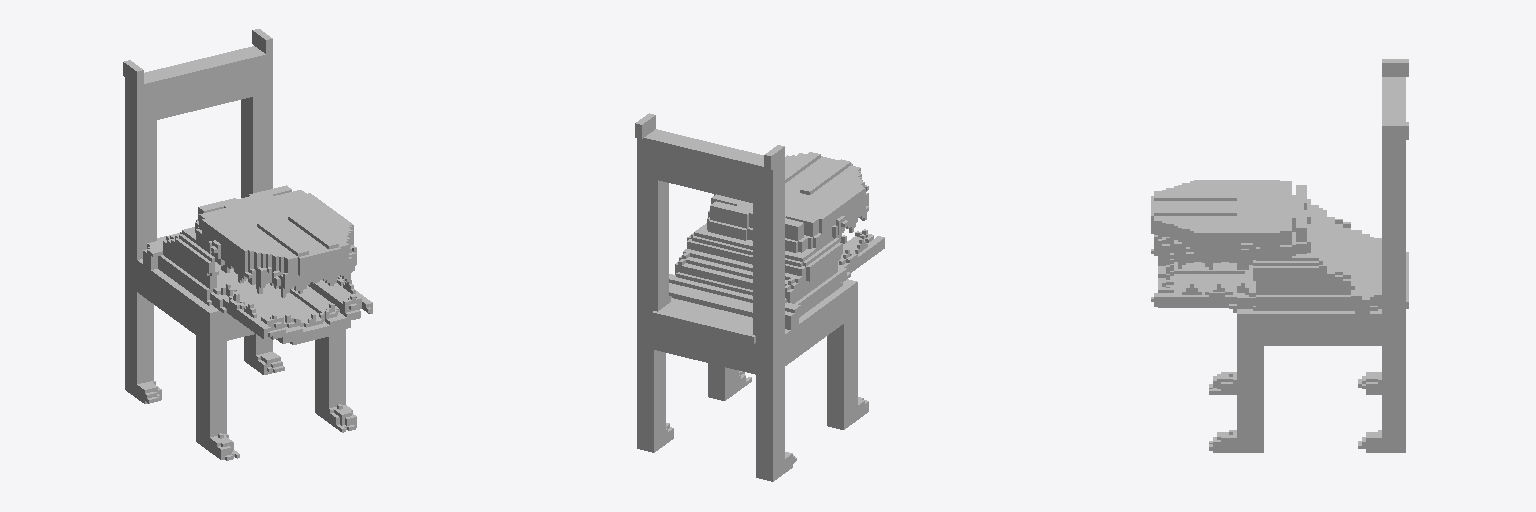
The model's file is chairisaurus (limited ver.).obj.
3 renders of one model, left to right at view 1: azimuth 30°, elevation 25°; view 2: azimuth 150°, elevation 25°; view 3: azimuth 270°, elevation 25°, orthographic.
Parts seen in each view (by area): view 1: object 1; view 2: object 1; view 3: object 1.
Boxes of the visible parts, box(x1,y1,x2,y2) form: object 1: box(123, 29, 372, 460); object 1: box(635, 113, 884, 481); object 1: box(1151, 59, 1408, 452).
Bounding box in the file's own units: 4 × 9.2 × 6.6.